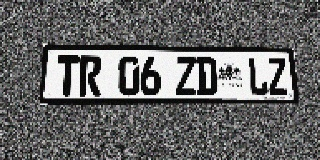0: (118, 56, 139, 96)
6: (140, 56, 161, 96)
D: (196, 57, 217, 96)
L: (247, 58, 269, 95)
R: (79, 56, 102, 96)
T: (56, 55, 79, 96)
Z: (175, 57, 197, 96), (267, 58, 288, 95)
